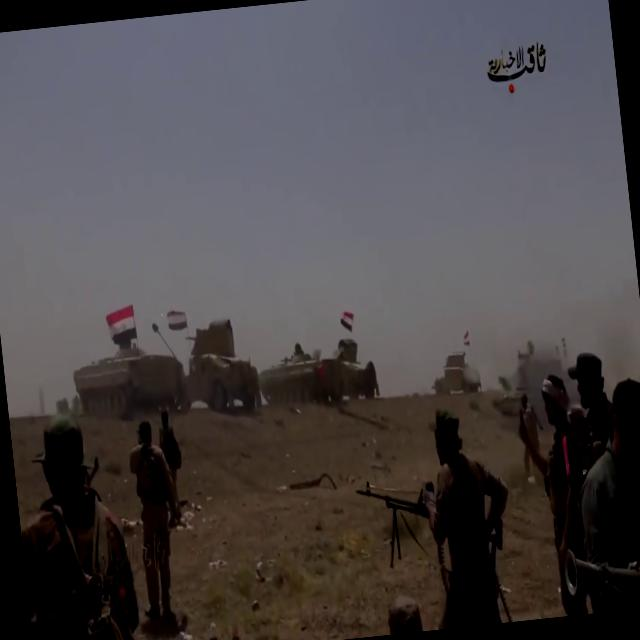long weapon: (352, 450, 448, 563)
